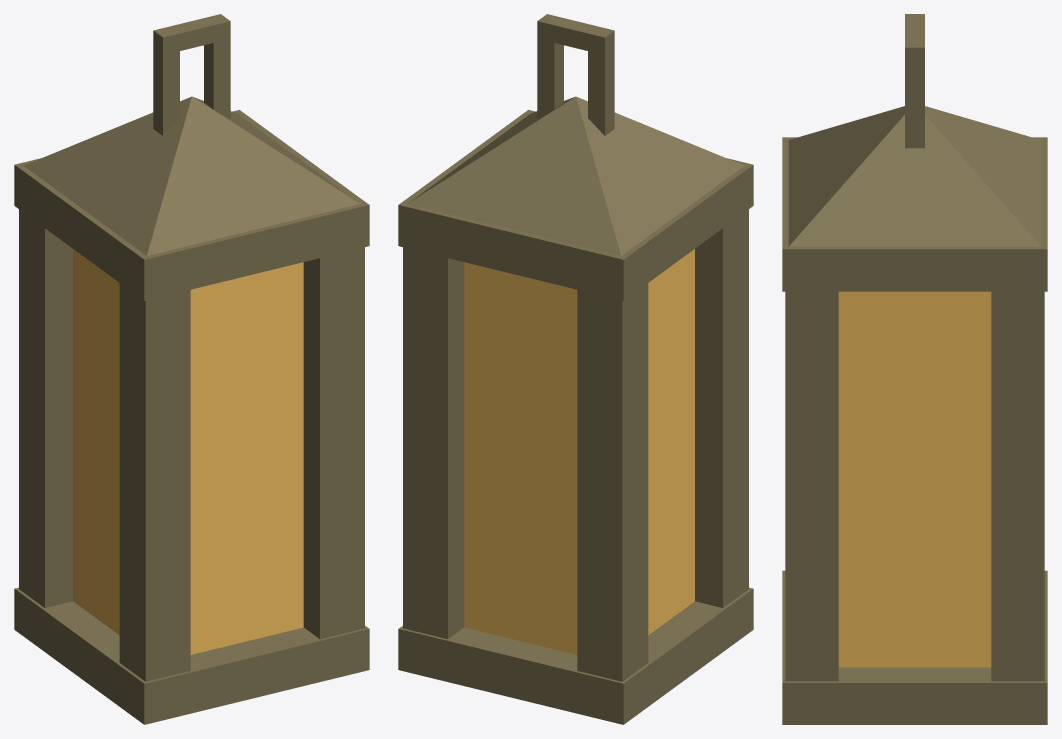
Rendered from PirateLantern.fbx.
The picture shows the model from 3 angles, left to right: view 1: azimuth 30°, elevation 25°; view 2: azimuth 150°, elevation 25°; view 3: azimuth 270°, elevation 25°; orthographic projection. The views are drawn at different scales.
Parts seen in each view (by area): view 1: PirateLantern_PirateLanternMetal, PirateLantern_PirateLanternGlass; view 2: PirateLantern_PirateLanternMetal, PirateLantern_PirateLanternGlass; view 3: PirateLantern_PirateLanternMetal, PirateLantern_PirateLanternGlass.
Boxes of the visible parts, x1,y1,x2,y2 form: PirateLantern_PirateLanternMetal: (14,14,369,724); PirateLantern_PirateLanternGlass: (73,249,303,654); PirateLantern_PirateLanternMetal: (398,14,753,724); PirateLantern_PirateLanternGlass: (464,249,694,654); PirateLantern_PirateLanternMetal: (782,14,1047,724); PirateLantern_PirateLanternGlass: (838,291,991,667).
Size of the model in its own units: 94.34 by 250 by 94.34.
